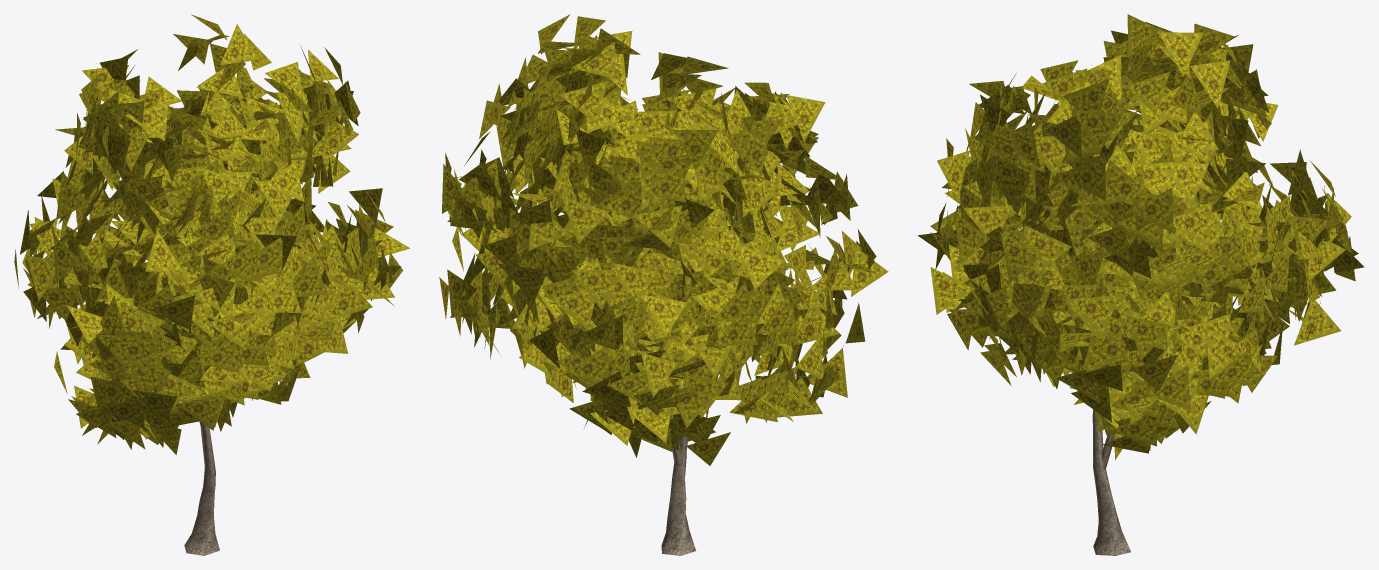
The model's file is Ginkgo_Biloba_Autumn_Young.glb.
The picture shows the model from 3 angles, left to right: view 1: azimuth 30°, elevation 25°; view 2: azimuth 150°, elevation 25°; view 3: azimuth 270°, elevation 25°; orthographic projection. The views are drawn at different scales.
Visible parts, largest first — view 1: Ginkgo_Biloba_Autumn_Young__LOD3; view 2: Ginkgo_Biloba_Autumn_Young__LOD3; view 3: Ginkgo_Biloba_Autumn_Young__LOD3.
Boxes of the visible parts, x1=… form: Ginkgo_Biloba_Autumn_Young__LOD3: x1=14, y1=14, x2=410, y2=555; Ginkgo_Biloba_Autumn_Young__LOD3: x1=439, y1=14, x2=888, y2=555; Ginkgo_Biloba_Autumn_Young__LOD3: x1=917, y1=14, x2=1364, y2=555.
Size of the model in its own units: 9.29 by 12.45 by 9.4.
2 materials, 2 textured.
